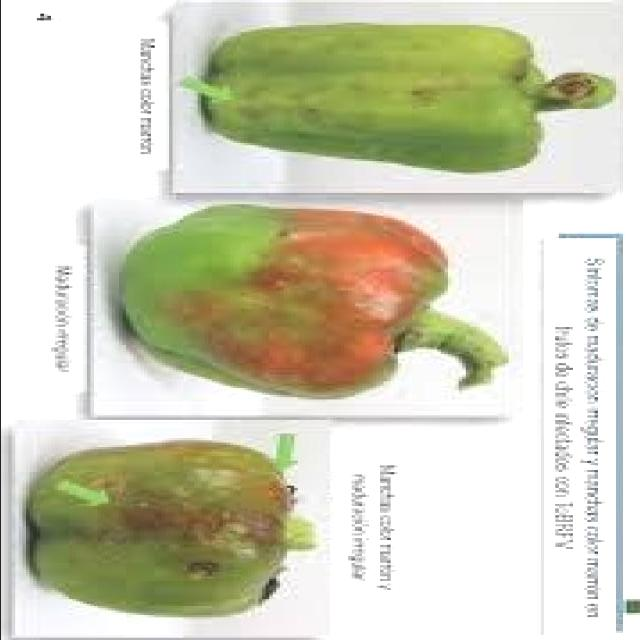bell_pepper: (95, 203, 517, 407)
